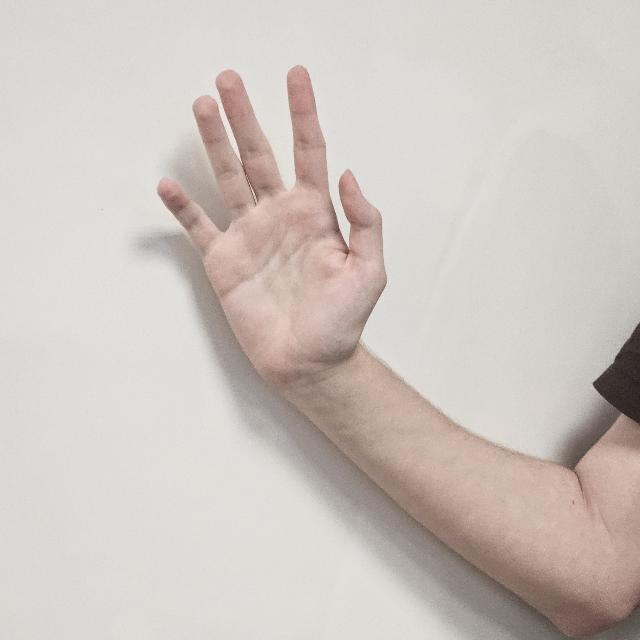X: (155, 61, 387, 395)
